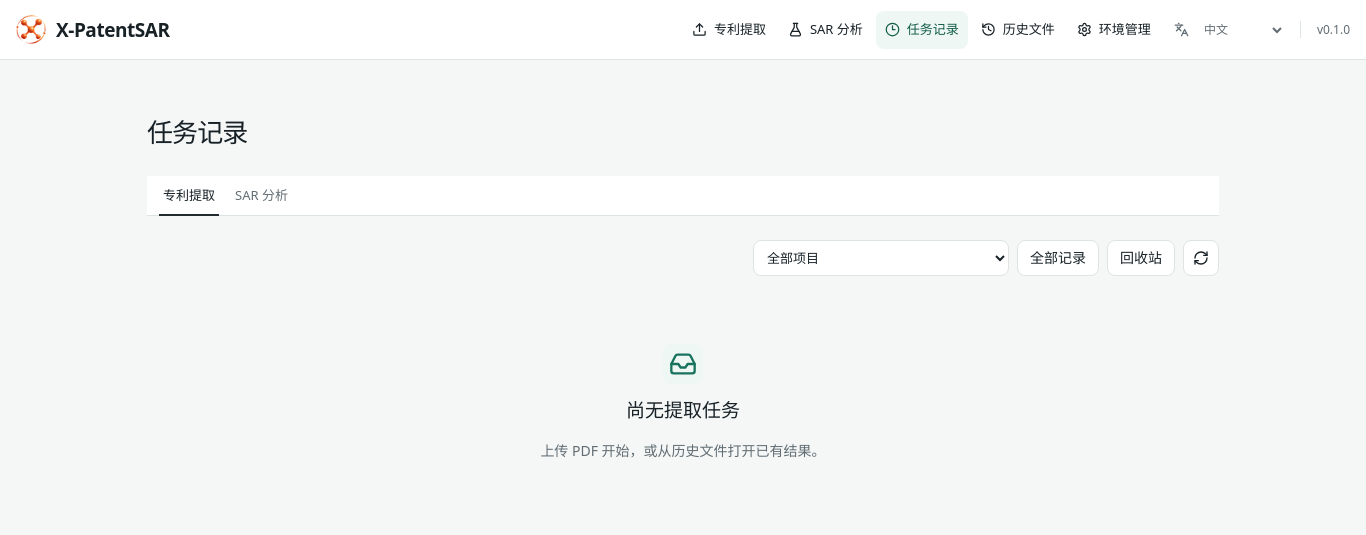
refreshes project choices with task records and retains the selected scope through an unknown read and retry
Select "契约测试专利" in the dropdown named "筛选任务所属项目": [881, 258] box [753,240,1009,276]
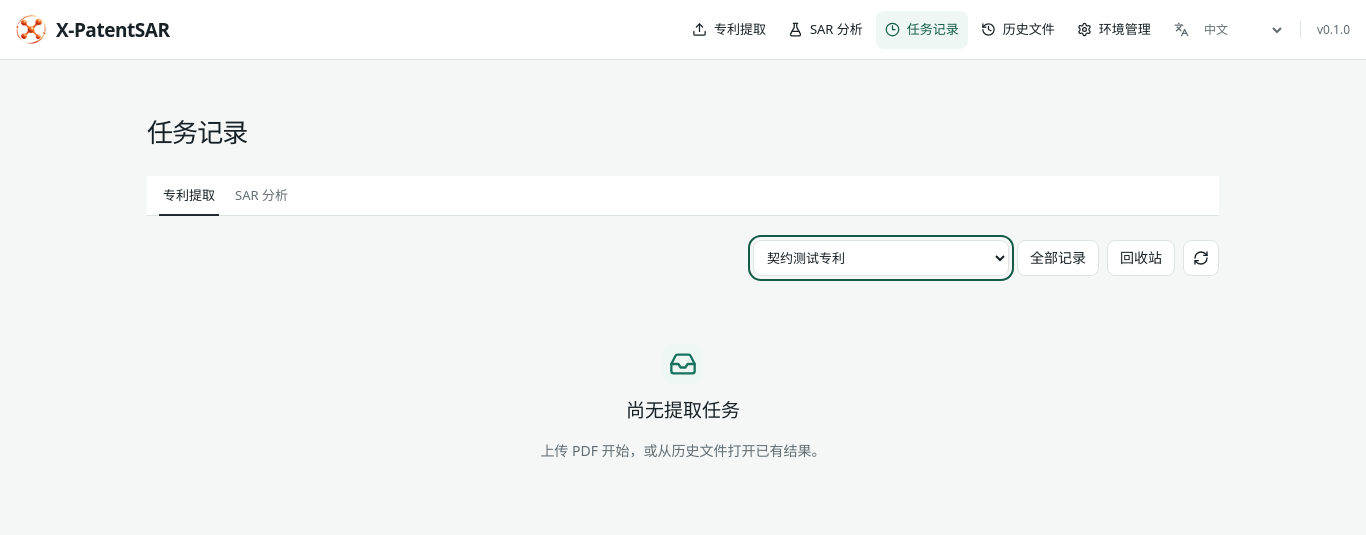
Click the button named "刷新任务记录": [1201, 258] box [1183,240,1219,276]
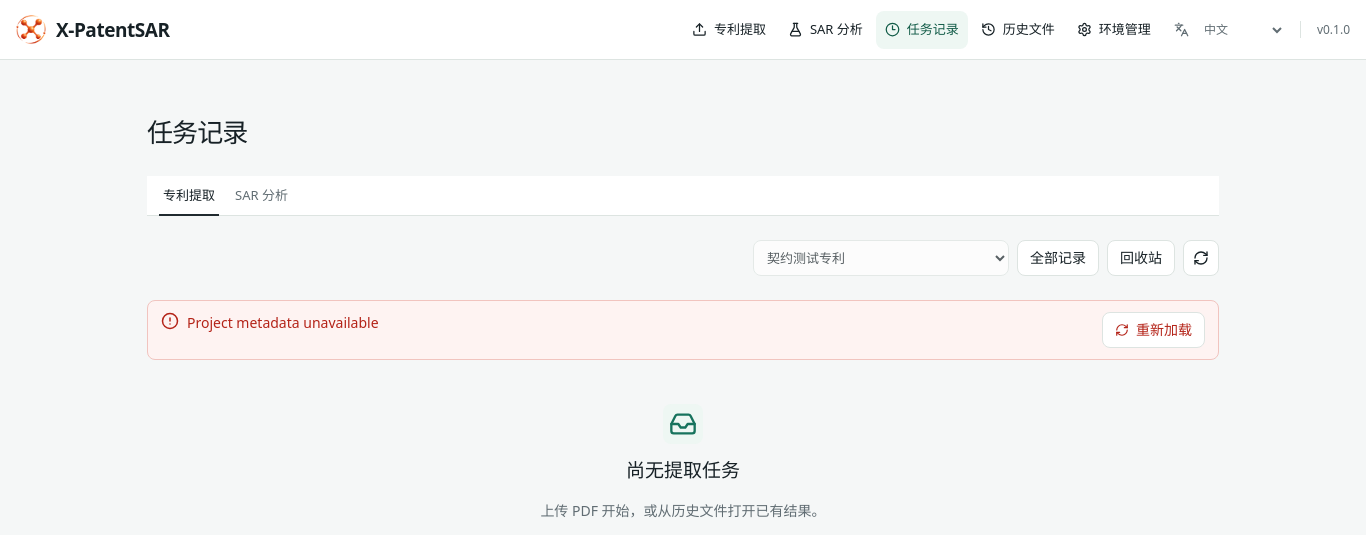
Check: the message shows "Project metadata unavailable", box [187,313,379,332]
Check: the dropdown named "筛选任务所属项目" is disabled, box [753,240,1009,276]
Click the button "重新加载": [1154, 330] box [1102,312,1205,348]
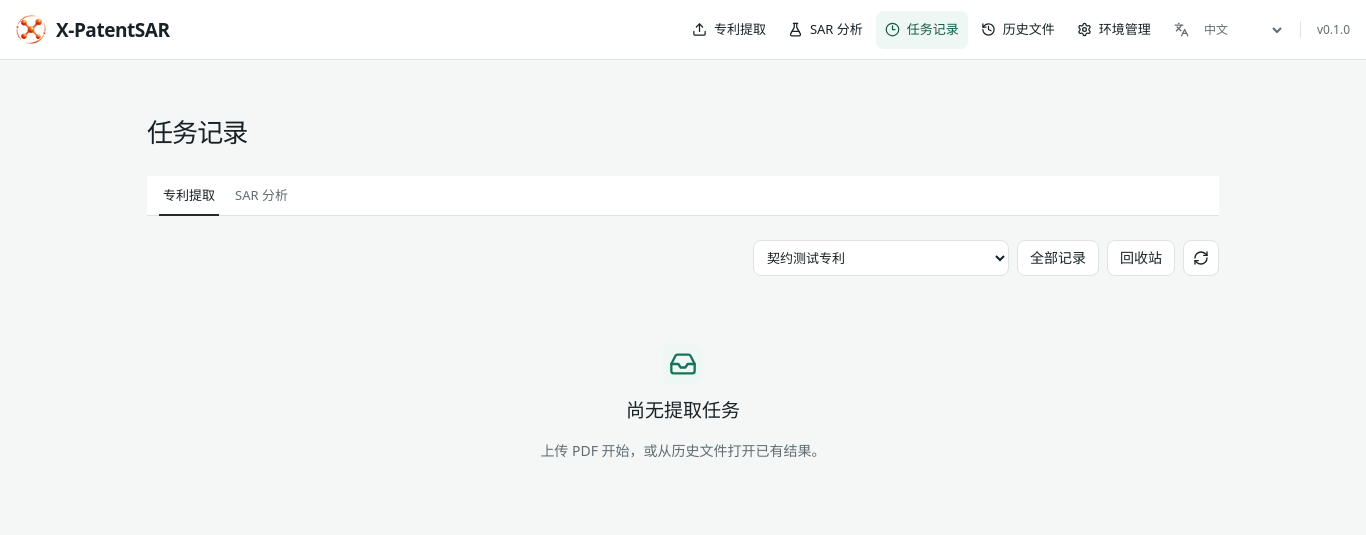
Check: the dropdown named "Filter tasks by project" is enabled, box [753,240,1009,276]
